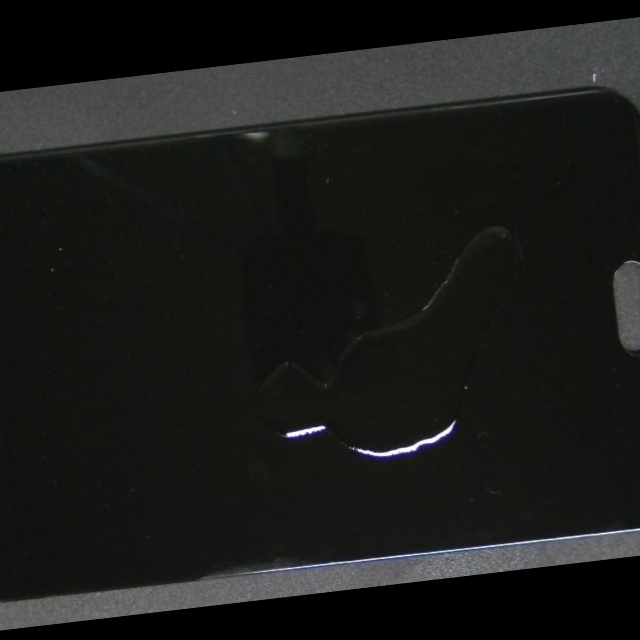oil: (89, 190, 459, 549)
